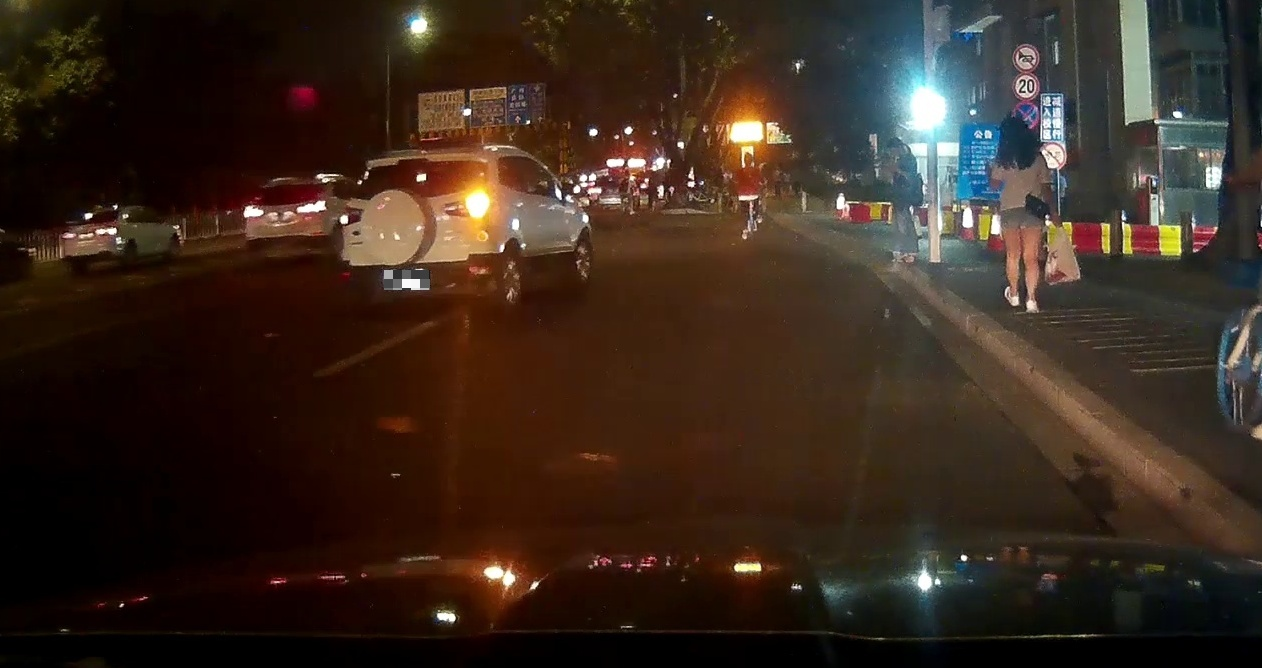L_light: (338, 203, 363, 227), (243, 205, 263, 218), (62, 232, 78, 240)
R_light: (442, 189, 491, 219), (296, 199, 327, 212), (94, 227, 118, 235)
T_light: (398, 157, 426, 167), (283, 182, 299, 188), (100, 210, 110, 213)
night-no: (242, 174, 331, 251), (59, 207, 122, 271)
night-right: (338, 144, 502, 319)
plate_1: (384, 270, 430, 290)
